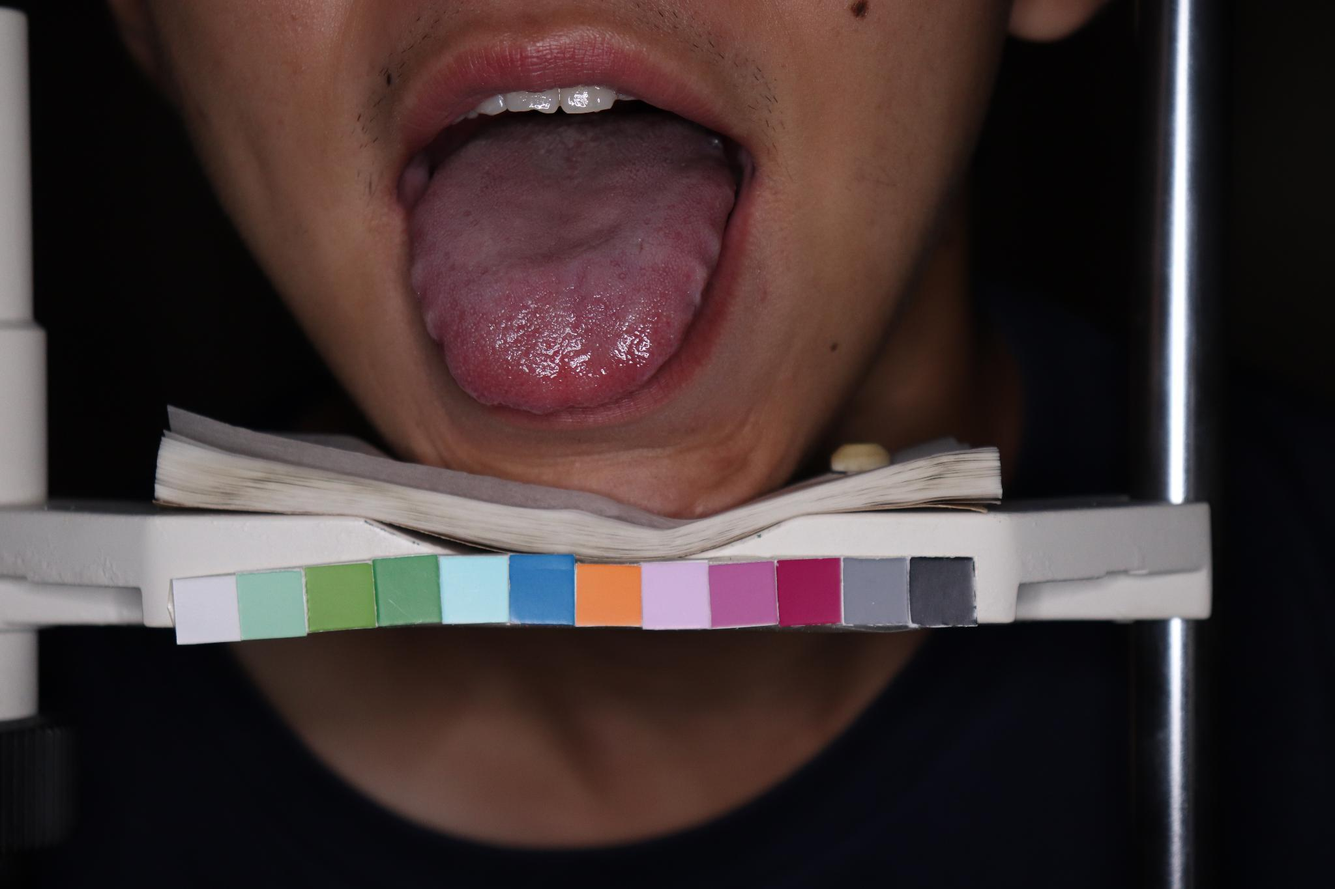baitaishe: (407, 119, 735, 415)
chihenshe: (692, 188, 735, 307), (407, 214, 446, 344)
zishe: (407, 119, 735, 415)
